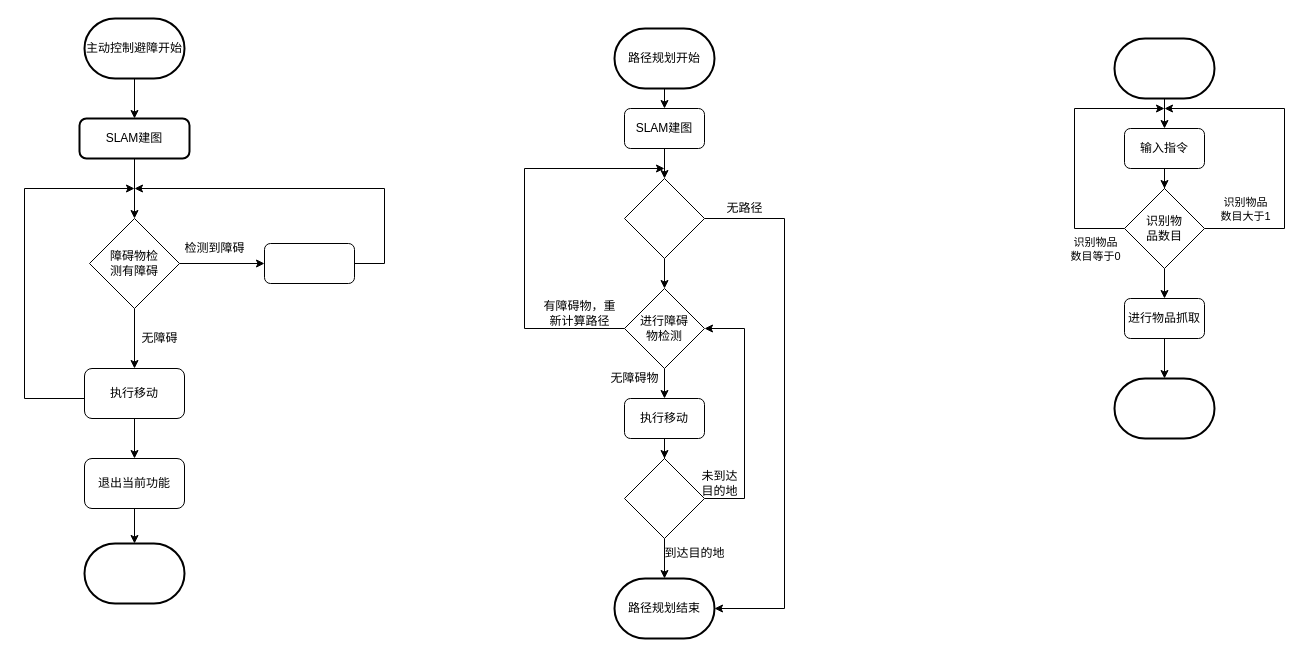
Some shapes in this 1310 by 656 pixel diagram are drawn without their labels. The centre of each missing label's shape, as x and y in pixels:
主动控制移动: [309,263]
主动控制避障结束: [134,573]
是否到达 目的地: [664,498]
物品抓取开始: [1164,68]
物品抓取结束: [1164,408]
计算有 无路径: [664,218]
